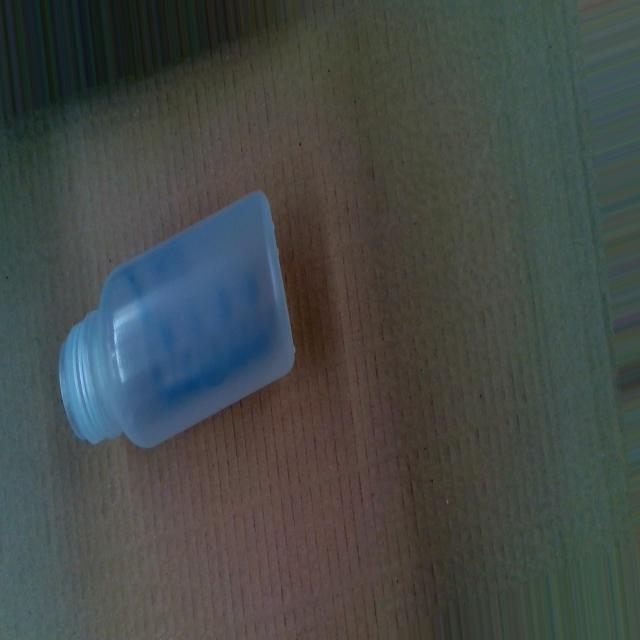bottle: (58, 187, 297, 459)
